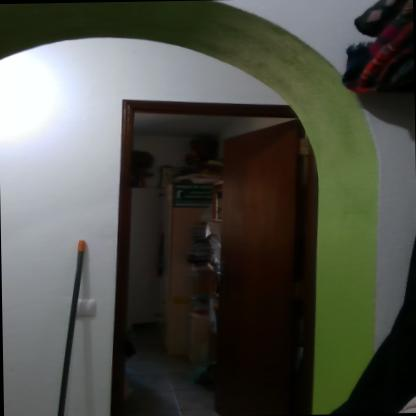open: (103, 64, 361, 416)
